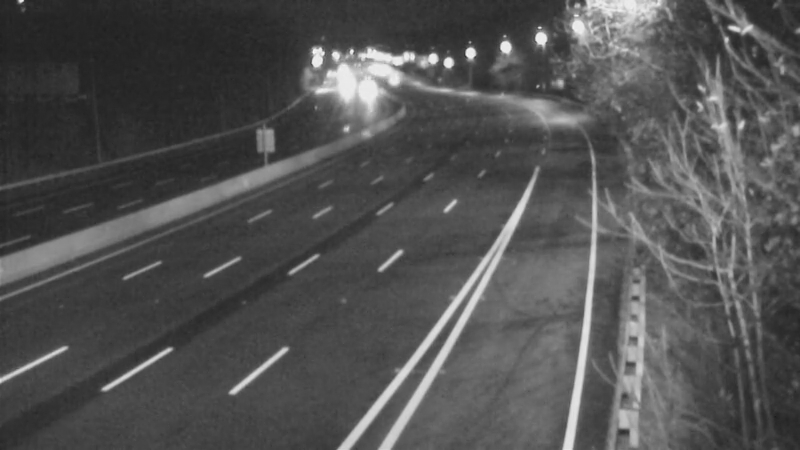vehicle: (365, 51, 415, 101), (339, 63, 389, 113)
